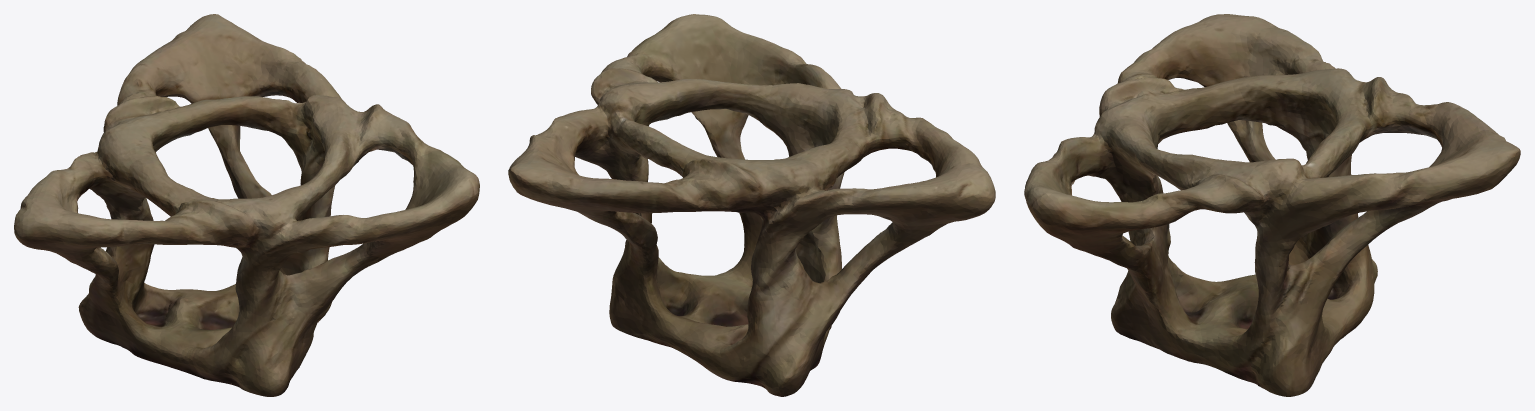
File: WLC Trinity Altar-edited.glb
The picture shows the model from 3 angles, left to right: view 1: azimuth 30°, elevation 25°; view 2: azimuth 150°, elevation 25°; view 3: azimuth 270°, elevation 25°; orthographic projection. The views are drawn at different scales.
Visible parts, largest first — view 1: WLC Trinity Altar; view 2: WLC Trinity Altar; view 3: WLC Trinity Altar.
Part boxes in pixels (x1=…): WLC Trinity Altar: x1=14, y1=14, x2=479, y2=396; WLC Trinity Altar: x1=508, y1=14, x2=995, y2=396; WLC Trinity Altar: x1=1024, y1=14, x2=1520, y2=396.
Size of the model in its own units: 0.3423 by 0.1846 by 0.3435.
1 material, 1 textured.
